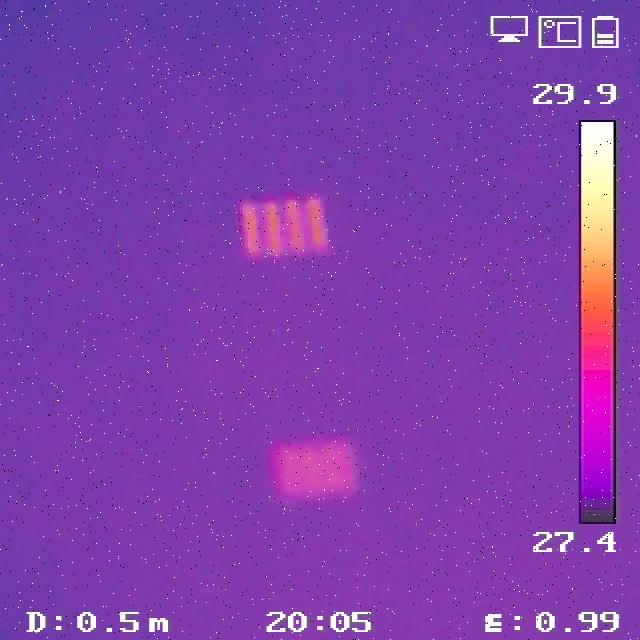Distinguishable 4-bar target: (236, 195, 328, 258)
Indistinguishable 4-bar target: (271, 438, 357, 497)
